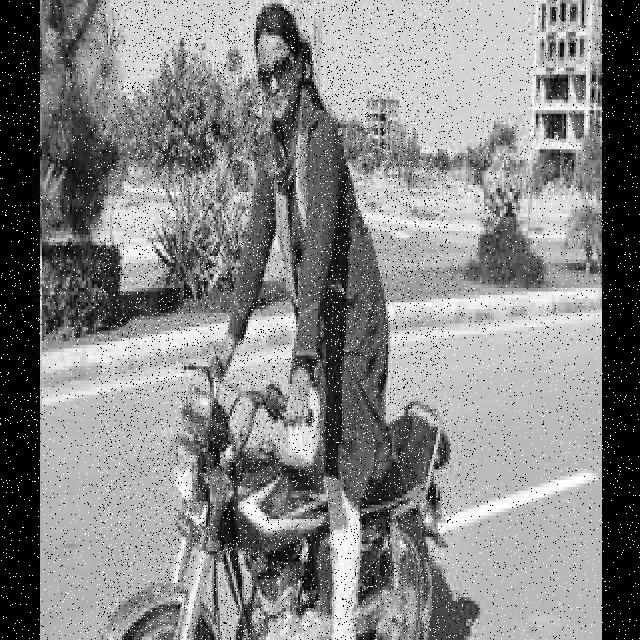Motorbike: (97, 1, 451, 640)
